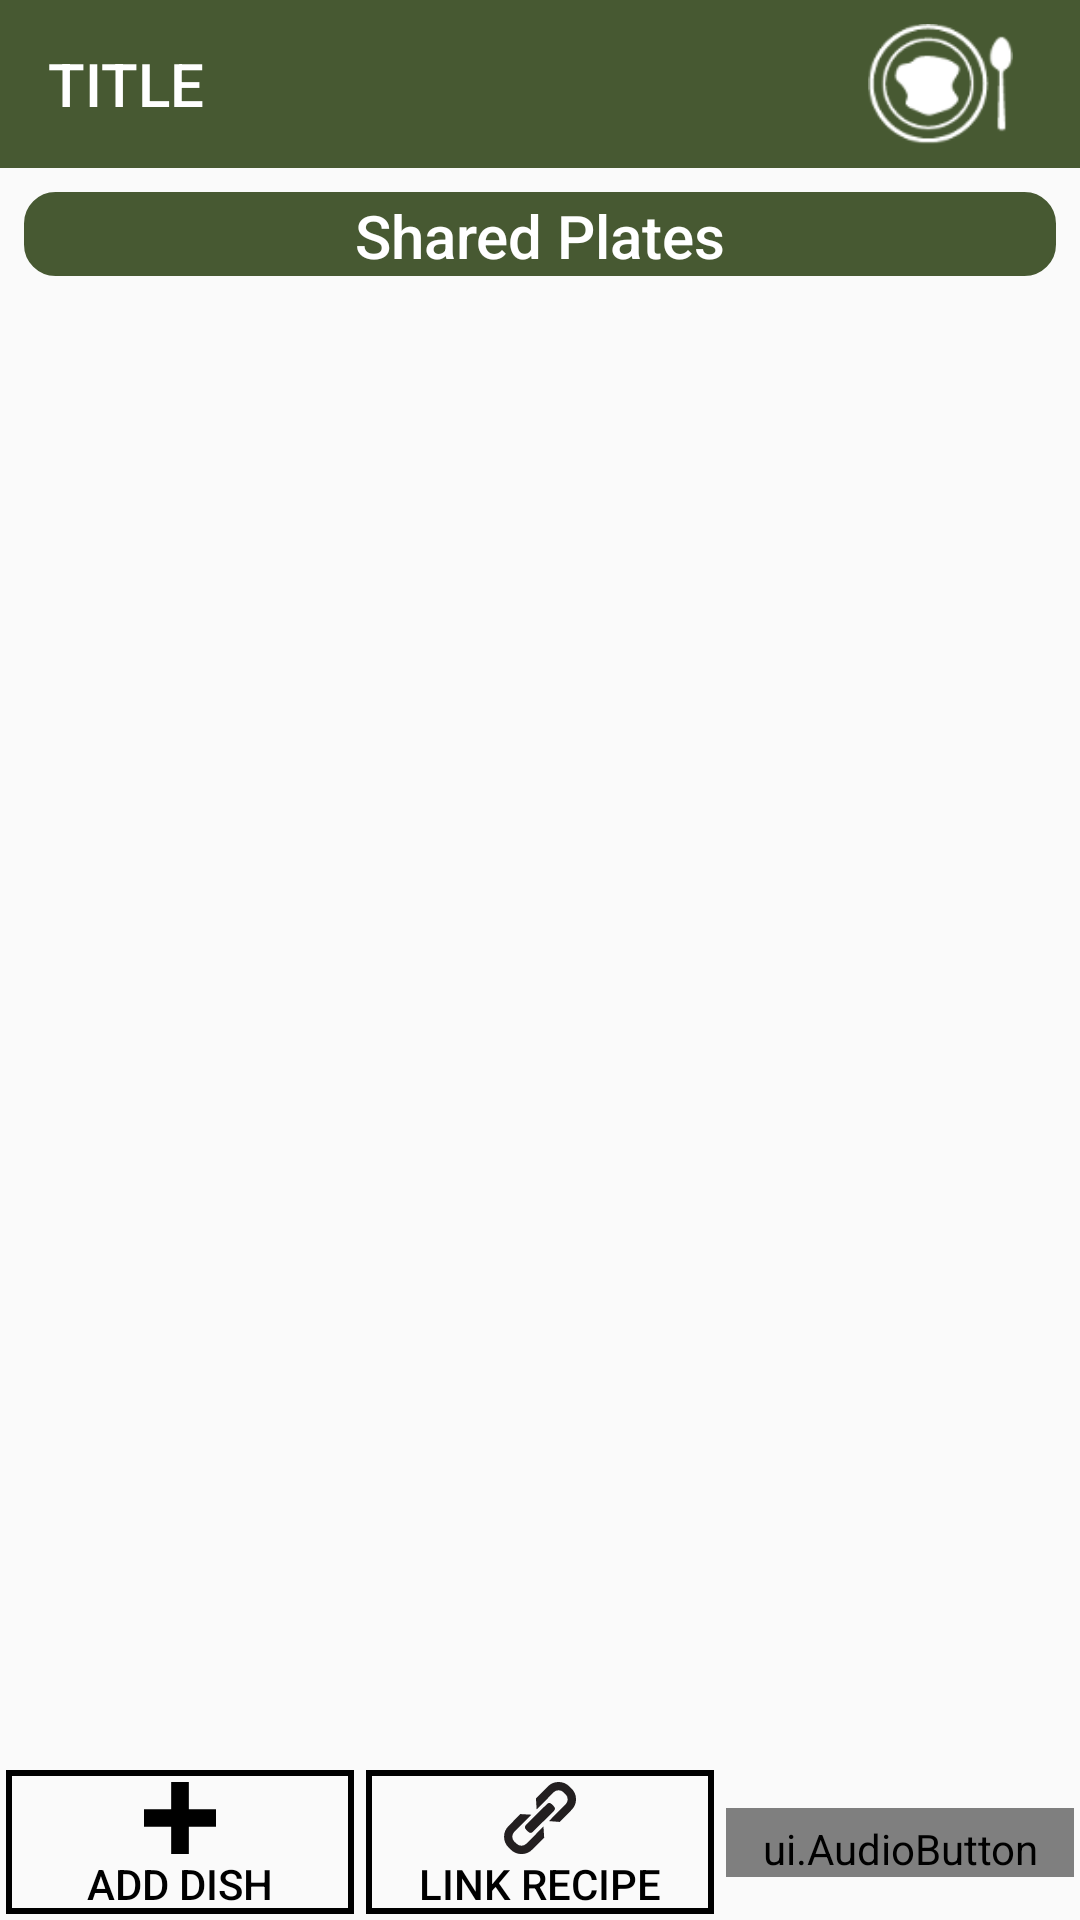

Icon bounding boxes for this 1080 x 1920 phone screenshot, format (x1, y1, x2, y2):
eat: (868, 24, 1013, 143)
